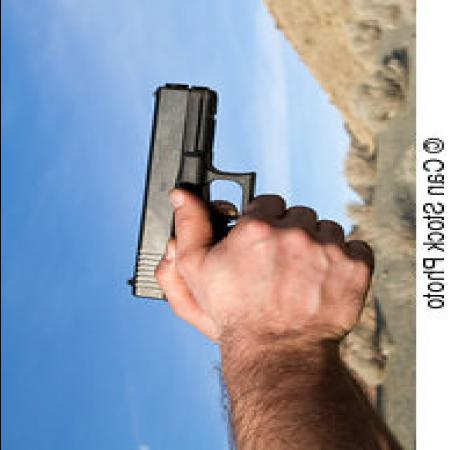Pistol: (121, 78, 255, 302)
